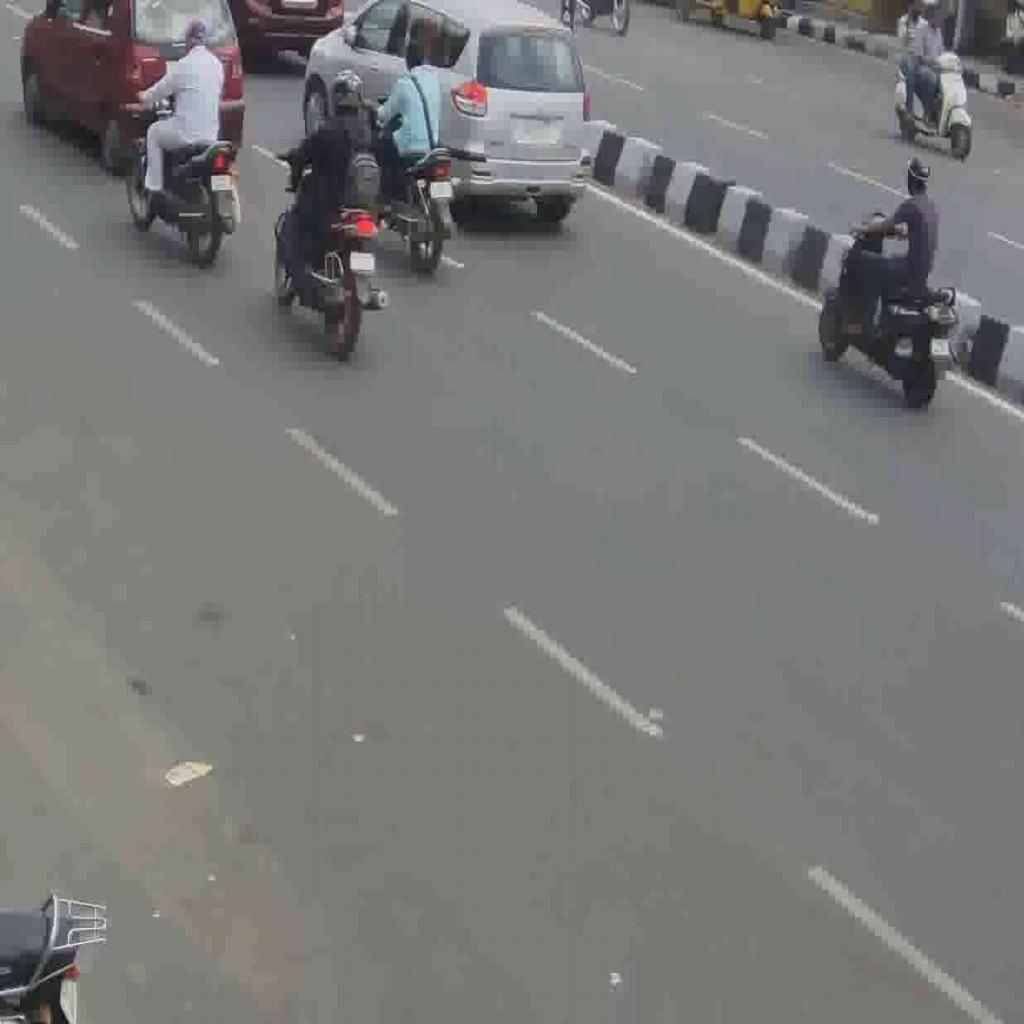bike: (819, 214, 960, 405), (266, 147, 394, 355), (129, 102, 246, 269)
helmet: (327, 64, 366, 124), (905, 155, 934, 199)
lisc: (348, 252, 375, 272), (212, 172, 232, 193), (932, 339, 948, 356)
no_helmet: (180, 14, 212, 56)
rider: (279, 66, 384, 238), (132, 16, 228, 173), (846, 152, 940, 296)
